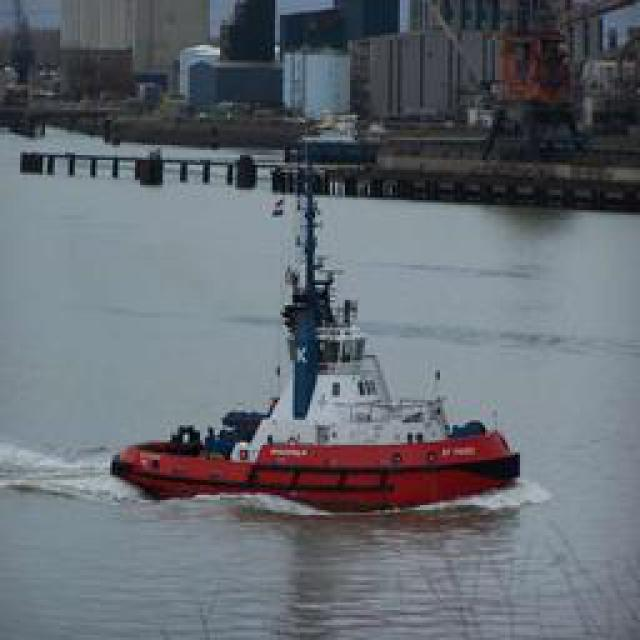Ship: (126, 184, 526, 509)
